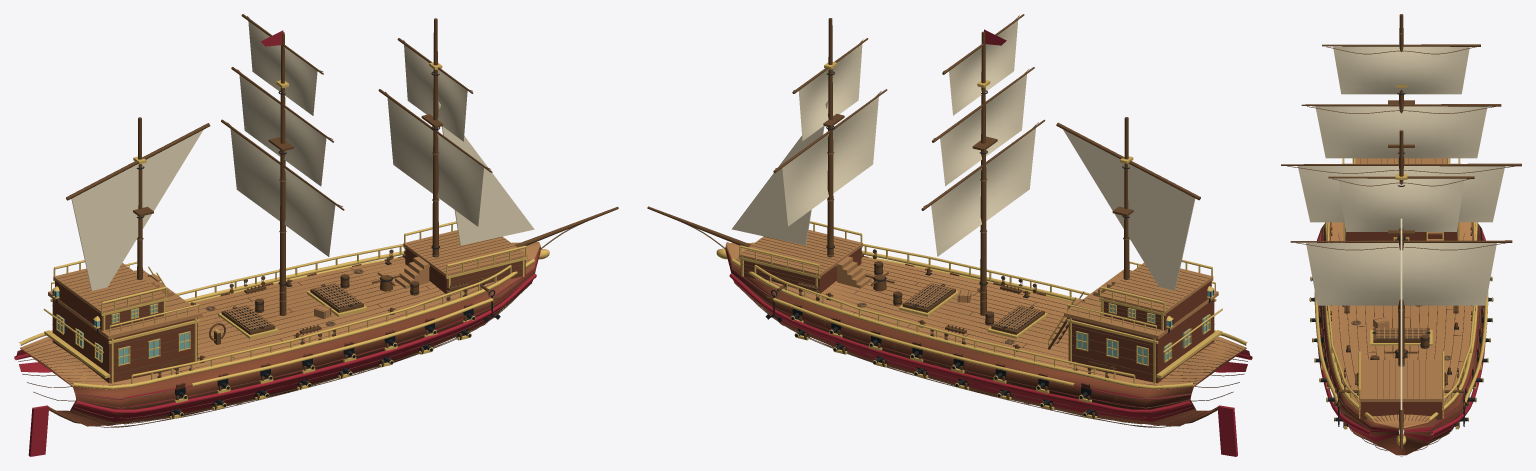
The model's file is galleon.glb.
3 views of the same model, side by side, from view 1: azimuth 30°, elevation 25°; view 2: azimuth 150°, elevation 25°; view 3: azimuth 270°, elevation 25° (orthographic).
Parts seen in each view (by area): view 1: Mesh_Batch_5, Mesh_Batch_2, Mesh_Batch_0, Mesh_Batch_16, Mesh_Batch_13, SailSurface_0, Mesh_Batch_7, Mesh_Batch_14, SailSurface_4, SailSurface_1, SailSurface_2, Mesh_Batch_4 (+11 smaller); view 2: Mesh_Batch_5, Mesh_Batch_2, Mesh_Batch_0, Mesh_Batch_16, Mesh_Batch_13, SailSurface_0, Mesh_Batch_7, Mesh_Batch_14, SailSurface_4, SailSurface_1, SailSurface_2, Mesh_Batch_4 (+11 smaller); view 3: SailSurface_4, SailSurface_2, Mesh_Batch_2, SailSurface_5, SailSurface_3, SailSurface_1, Mesh_Batch_16, Mesh_Batch_5, Mesh_Batch_0, Mesh_Batch_7, Mesh_Batch_14, Mesh_Batch_13 (+11 smaller).
Boxes of the visible parts, x1,y1,x2,y2 form: Mesh_Batch_5: (19,62,549,419); Mesh_Batch_2: (20,242,540,386); Mesh_Batch_0: (20,245,540,426); Mesh_Batch_16: (48,230,527,339); Mesh_Batch_13: (16,232,534,427); SailSurface_0: (71,130,203,290); Mesh_Batch_7: (47,18,618,423); Mesh_Batch_14: (52,248,525,389); SailSurface_4: (387,98,483,226); SailSurface_1: (230,129,335,256); SailSurface_2: (239,75,326,186); Mesh_Batch_4: (16,247,540,421); Mesh_Batch_5: (716,62,1247,419); Mesh_Batch_2: (726,242,1246,386); Mesh_Batch_0: (725,245,1246,426); Mesh_Batch_16: (739,230,1218,345); Mesh_Batch_13: (731,232,1247,427); SailSurface_0: (1063,129,1195,290); Mesh_Batch_7: (647,18,1219,423); Mesh_Batch_14: (740,247,1214,389); SailSurface_4: (782,97,878,226); SailSurface_1: (931,128,1035,256); SailSurface_2: (940,74,1026,185); Mesh_Batch_4: (725,247,1250,421); SailSurface_4: (1306,243,1496,305); SailSurface_2: (1315,106,1487,158); Mesh_Batch_2: (1329,222,1473,427); SailSurface_5: (1338,178,1464,231); SailSurface_3: (1333,46,1469,94); SailSurface_1: (1297,166,1504,222); Mesh_Batch_16: (1342,158,1460,401); Mesh_Batch_5: (1310,85,1492,445); Mesh_Batch_0: (1318,222,1484,455); Mesh_Batch_7: (1319,14,1483,456); Mesh_Batch_14: (1318,230,1484,419); Mesh_Batch_13: (1318,158,1484,451).
Bounding box in the file's own units: 19.35 × 11.49 × 6.93.
